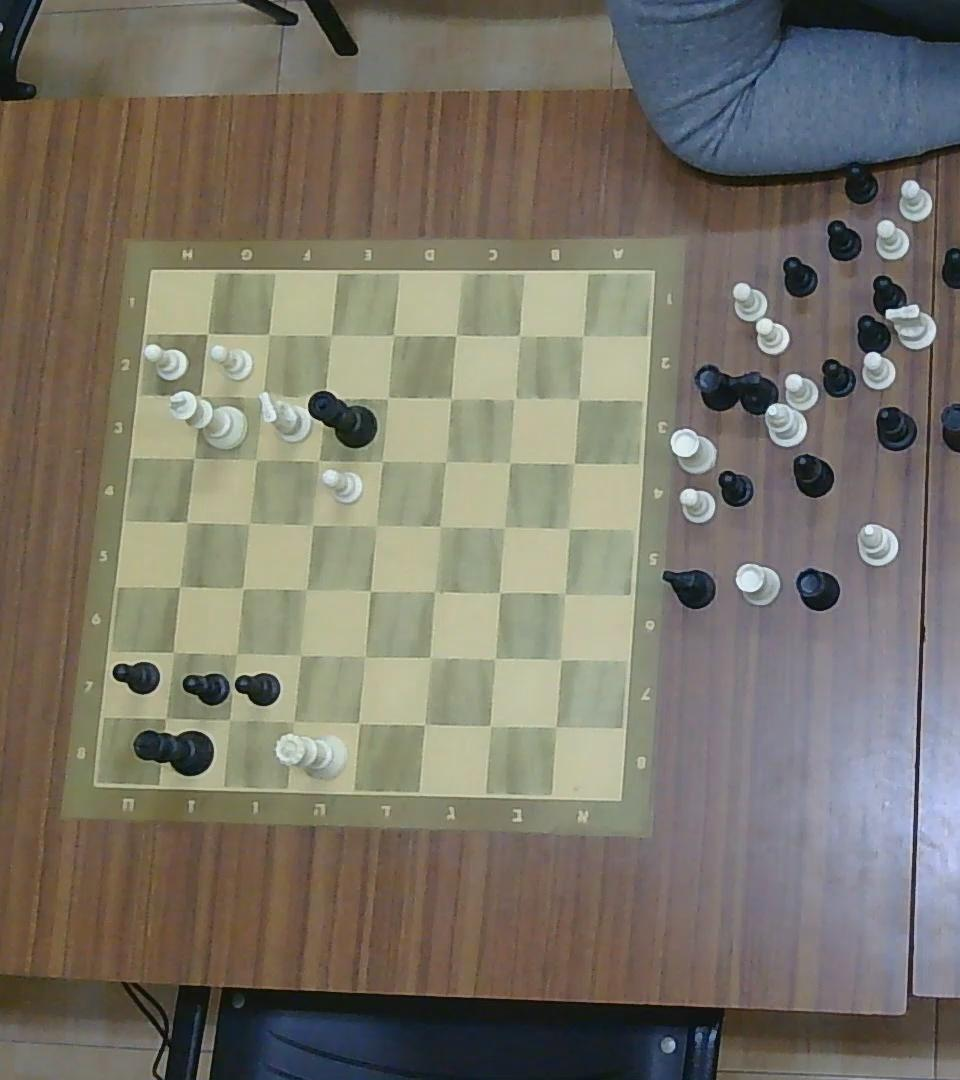xcorner: (477, 712, 503, 738), (542, 714, 569, 739), (246, 385, 272, 410), (412, 711, 437, 736), (418, 645, 442, 670), (281, 708, 305, 732), (347, 710, 371, 734), (482, 647, 506, 671), (154, 705, 178, 729), (353, 644, 376, 668), (288, 642, 311, 666), (217, 709, 240, 731), (549, 648, 571, 670), (319, 324, 341, 346), (439, 387, 461, 408), (371, 449, 392, 471), (225, 643, 246, 665), (188, 386, 210, 406), (366, 514, 386, 535), (423, 581, 443, 602), (499, 450, 519, 471), (376, 388, 396, 408), (183, 447, 203, 467), (429, 516, 449, 536), (488, 582, 508, 602), (445, 325, 465, 345), (559, 518, 579, 538), (555, 582, 575, 602), (259, 324, 279, 344), (383, 325, 403, 345), (314, 386, 334, 406), (247, 448, 266, 469), (435, 450, 454, 471), (296, 578, 315, 599), (164, 642, 183, 663), (170, 576, 189, 597), (302, 514, 321, 534), (361, 580, 380, 600), (309, 450, 328, 470), (177, 511, 196, 531), (232, 579, 252, 598), (240, 513, 259, 532), (198, 324, 217, 343), (495, 516, 513, 536), (565, 454, 583, 473), (573, 326, 591, 345), (511, 326, 529, 345), (505, 389, 523, 406), (572, 390, 588, 406)
